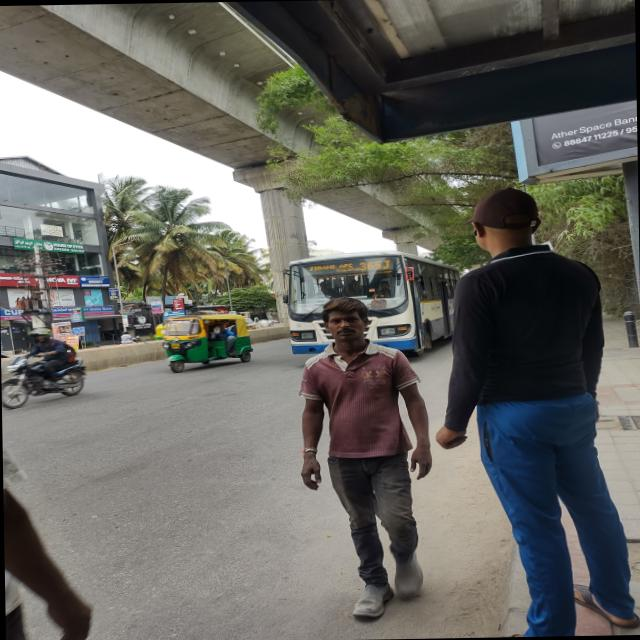bus: (270, 248, 454, 376)
display: (302, 258, 394, 274)
dnumber: (360, 259, 390, 270)
